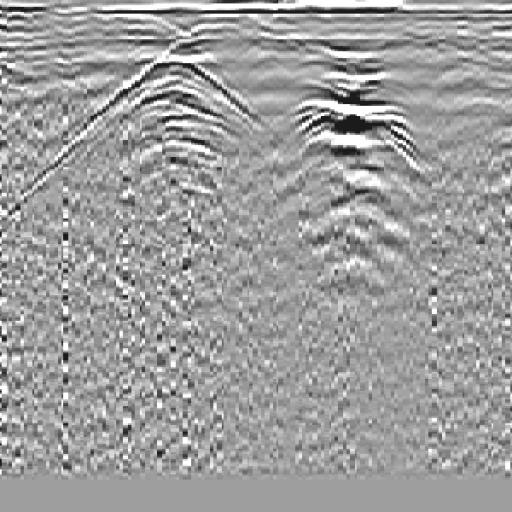metalic: (247, 68, 464, 190)
